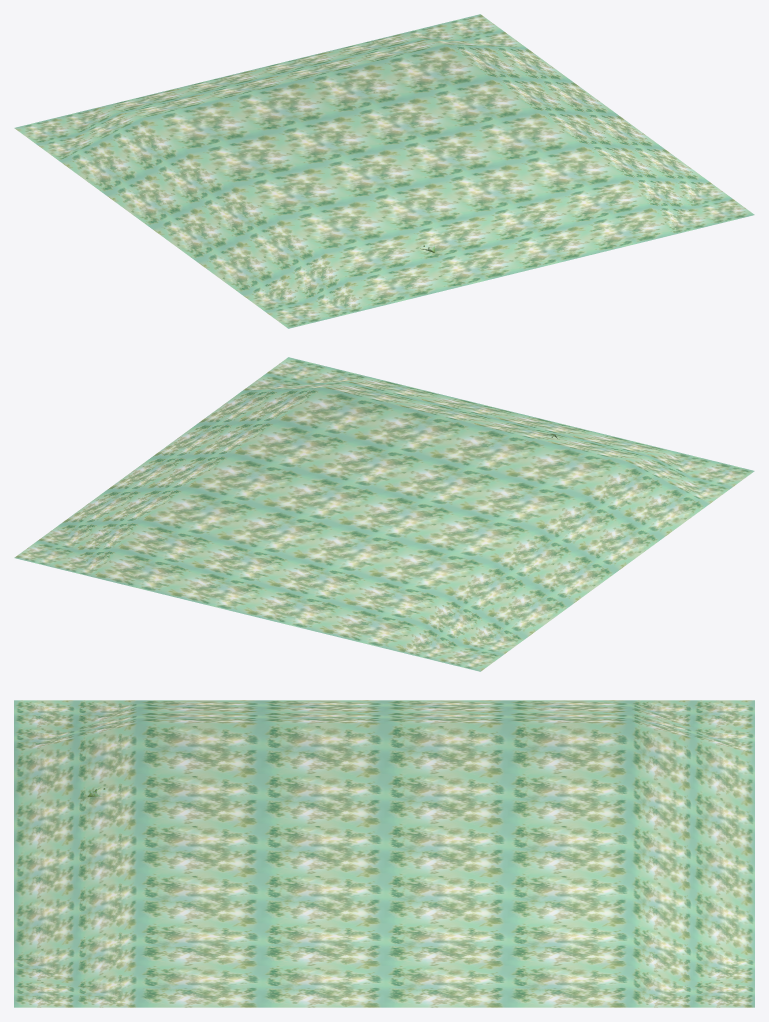
The model's file is magakhan_jungle.glb.
3 views of the same model, one above another, from view 1: azimuth 30°, elevation 25°; view 2: azimuth 150°, elevation 25°; view 3: azimuth 270°, elevation 25° (orthographic). The views are drawn at different scales.
Visible parts, largest first — view 1: junglebranchroof; view 2: junglebranchroof; view 3: junglebranchroof.
Part boxes in pixels (x1,y1,x2,y2): junglebranchroof: (14, 14, 754, 328); junglebranchroof: (14, 357, 754, 671); junglebranchroof: (14, 700, 754, 1007).
Bounding box in the file's own units: 398 × 28.32 × 405.
77 materials, 76 textured.
